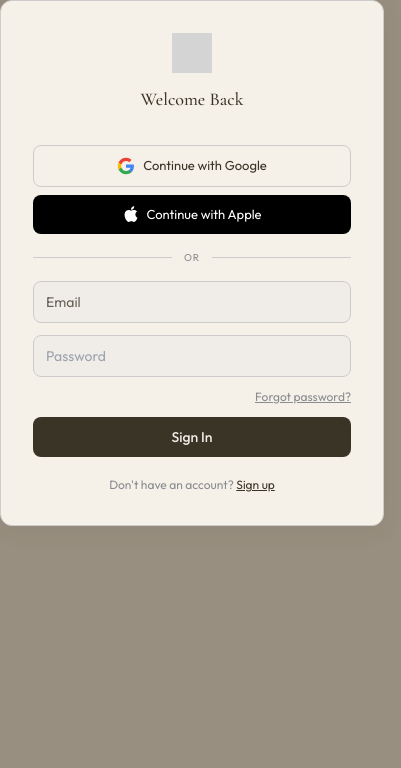
Test: AuthCard verify-password › shows a mismatch message and disables Create Account when the passwords differ
Click the button "Sign up": (256, 485) [236,477,275,493]
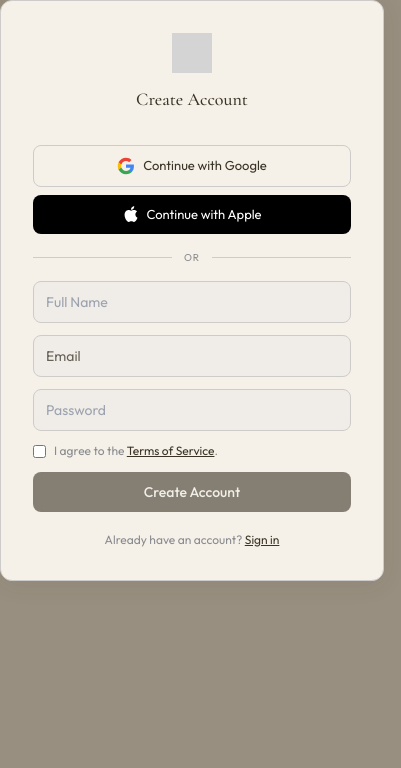
In the password field with placeholder "Password": (192, 410) [33,389,351,431], type "secret1"
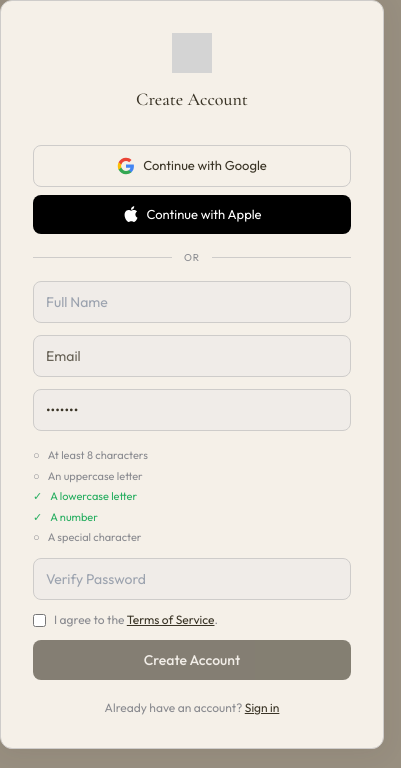
In the password field labelled "Verify Password": (192, 578) [33,558,351,600], type "secret2"
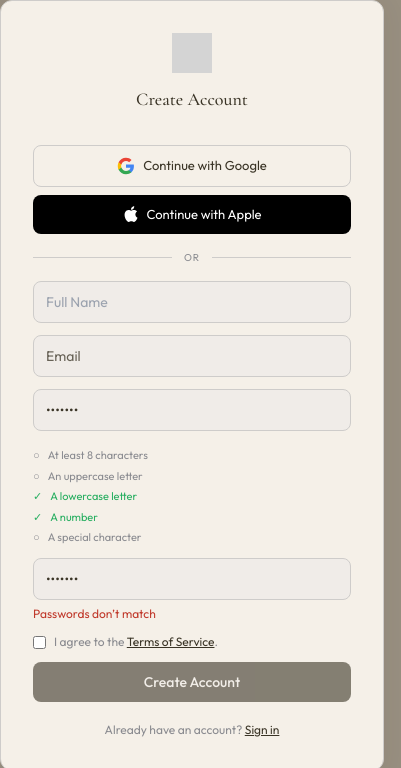
Now the button "Create Account" is disabled, box [33,662,351,702]
Now the text "Passwords don’t match" is shown, box [33,606,156,620]
